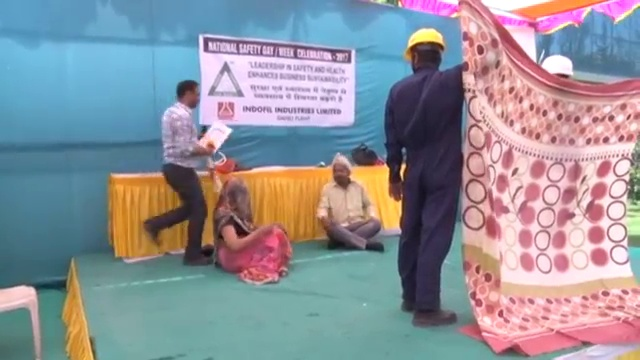helmet: (402, 27, 445, 57), (539, 52, 575, 77)
helmet_off: (219, 176, 249, 206), (175, 78, 201, 111), (329, 155, 352, 184)
helmet_on: (400, 27, 445, 72)
person: (384, 26, 467, 329), (146, 79, 213, 266), (212, 174, 292, 283), (318, 155, 383, 253)
